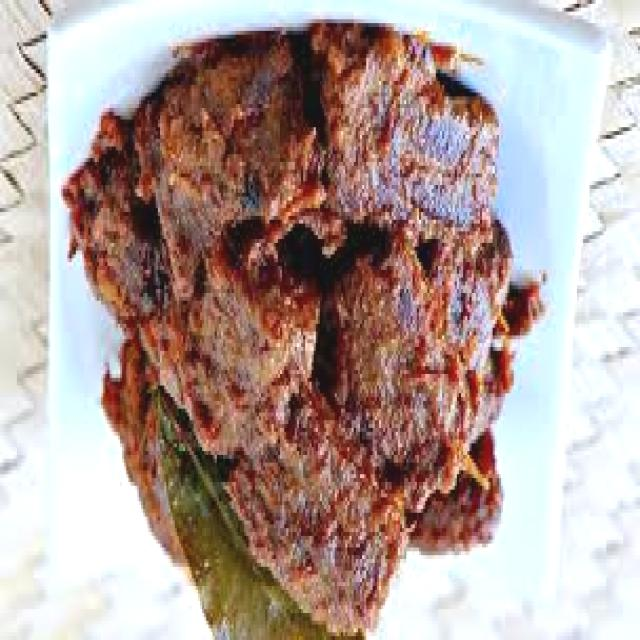rendang: (63, 23, 545, 640)
